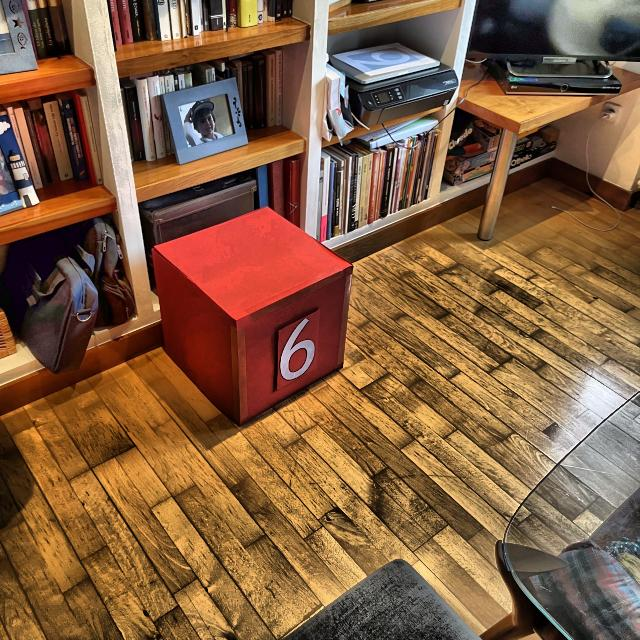red box: (154, 207, 352, 428)
six: (280, 316, 317, 383)
